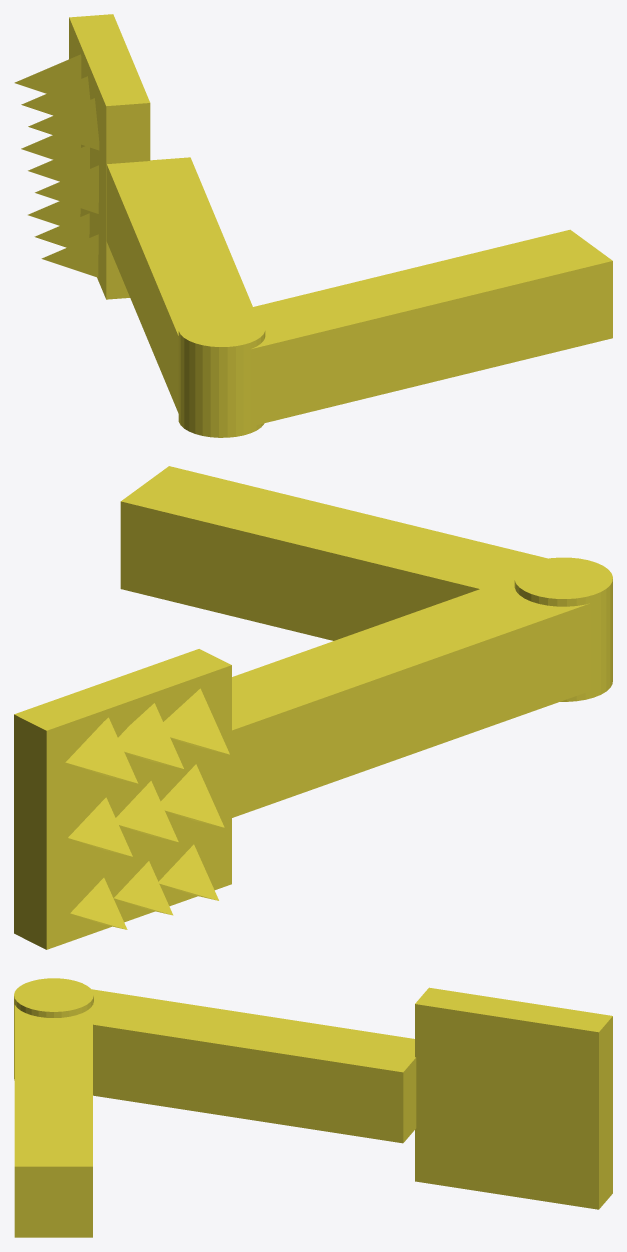
File: Spike.fbx
3 renders of one model, top to bottom at view 1: azimuth 30°, elevation 25°; view 2: azimuth 150°, elevation 25°; view 3: azimuth 270°, elevation 25°, orthographic. The views are drawn at different scales.
Parts seen in each view (by area): view 1: Spike_Connection, Spike_Arm; view 2: Spike_Connection, Spike_Arm; view 3: Spike_Connection, Spike_Arm.
Part boxes in pixels (x1,y1,x2,y2): Spike_Connection: (14,14,265,437); Spike_Arm: (237,229,612,426); Spike_Connection: (14,557,612,949); Spike_Arm: (120,466,547,640); Spike_Connection: (14,978,612,1209); Spike_Arm: (14,1005,92,1237).
Size of the model in its own units: 220 by 101 by 306.
